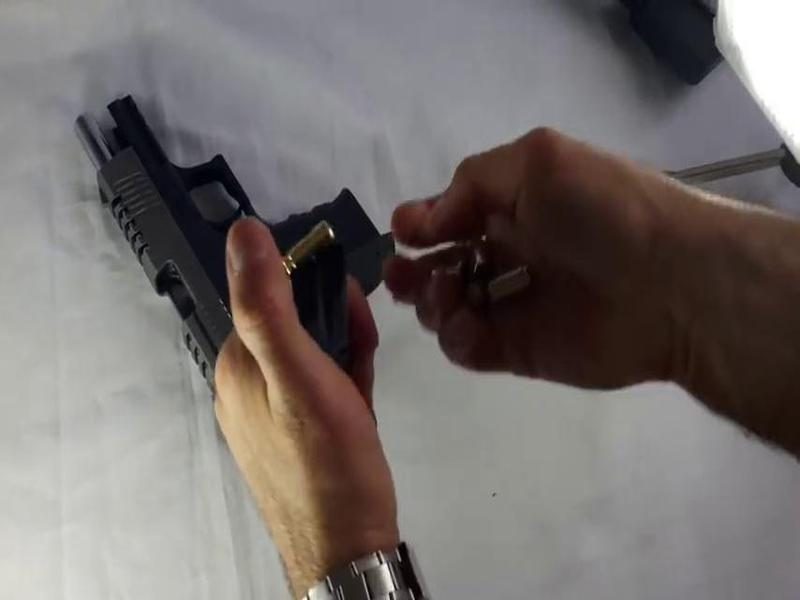Pistola: (67, 86, 414, 434)
